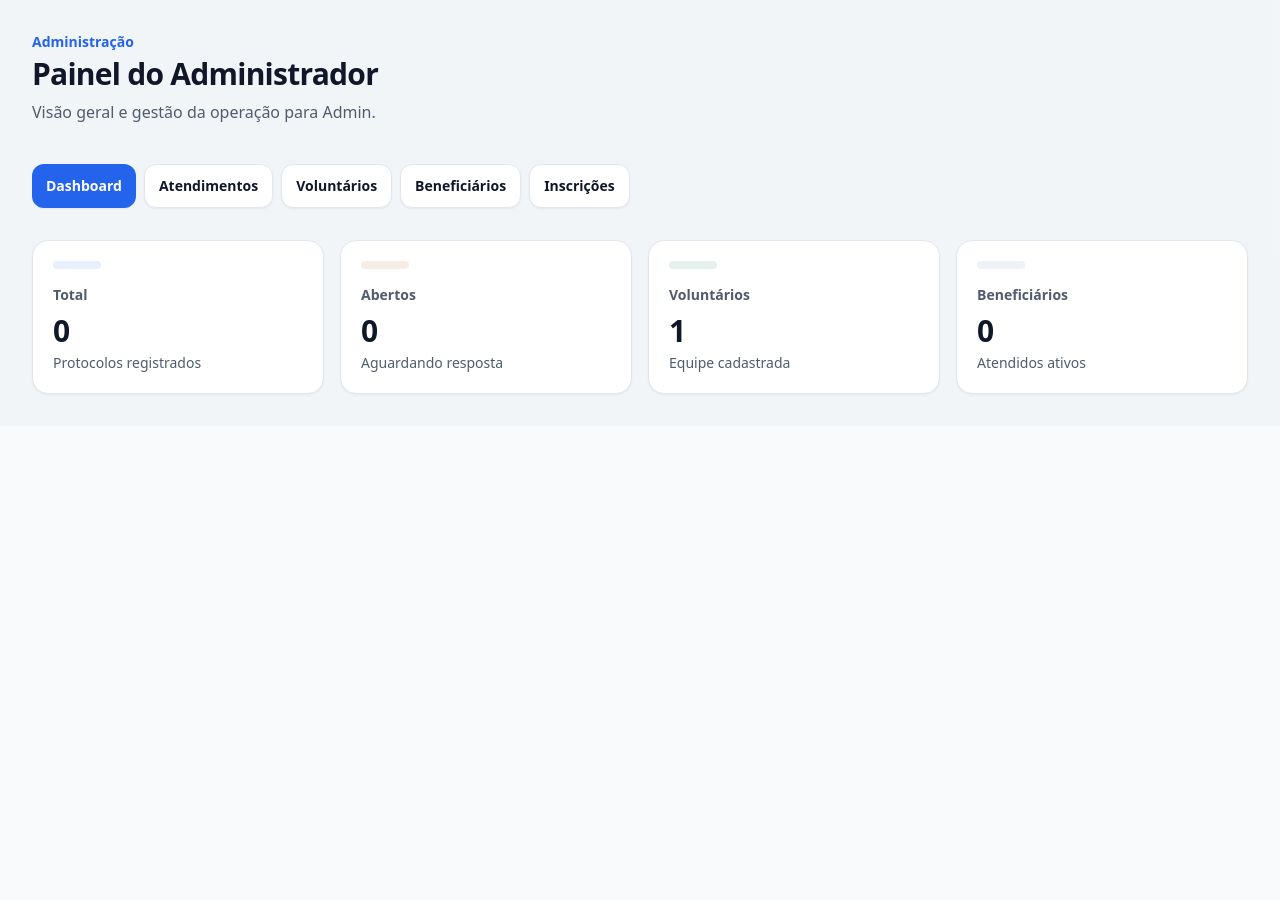
Scenario: Permissão de casos sigilosos no painel administrativo › confirma a alteração de acesso false para true antes de persistir
Click the button "Voluntários".
click(337, 186)  # box [281, 164, 392, 208]
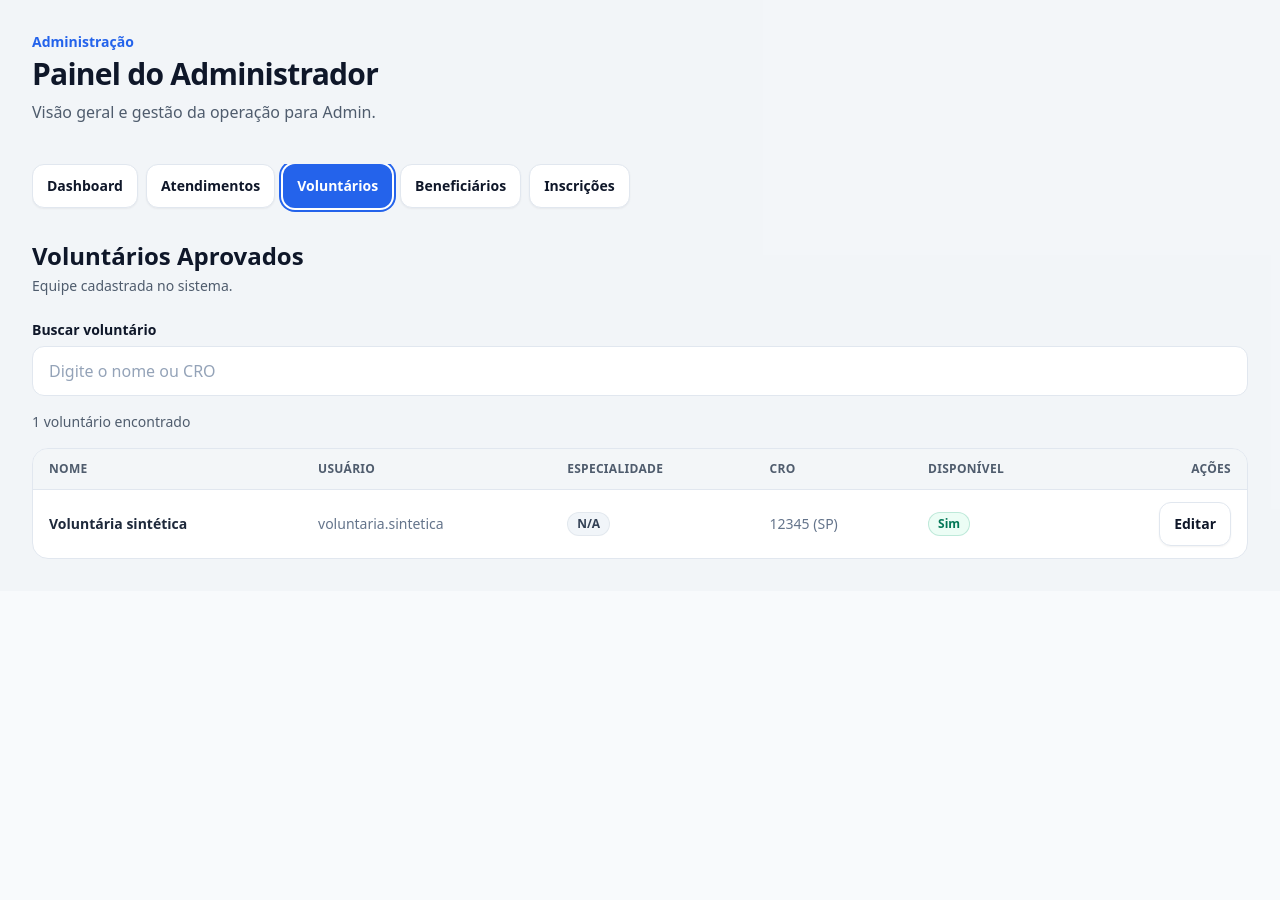
Click the button "Editar".
click(1195, 524)  # box [1159, 502, 1231, 546]
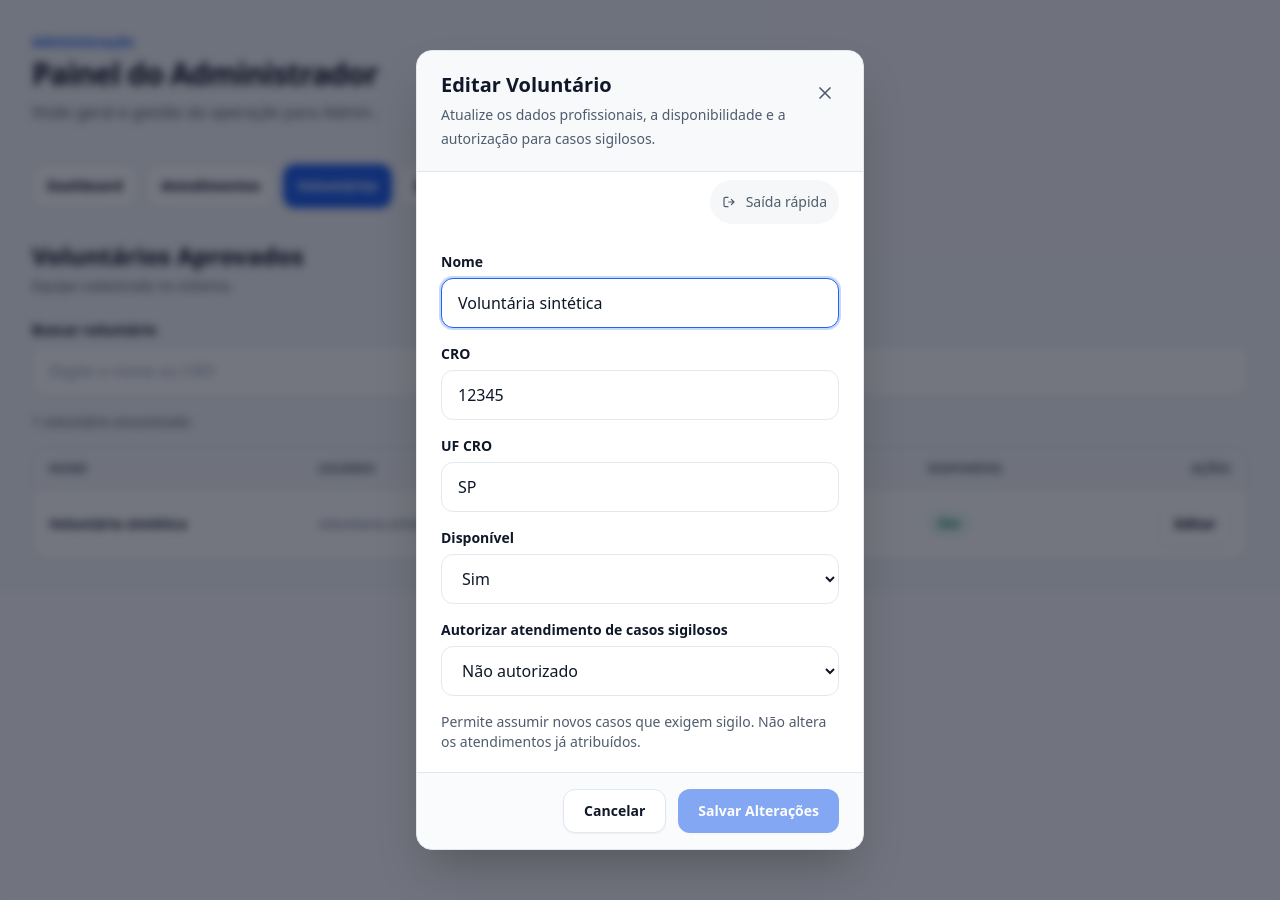
Expected: the button "Salvar Alterações" is disabled, [678, 789, 839, 833]
Select "Autorizado" in the dropdown labelled "Autorizar atendimento de casos sigilosos" at coordinates (640, 671), box [441, 646, 839, 696]
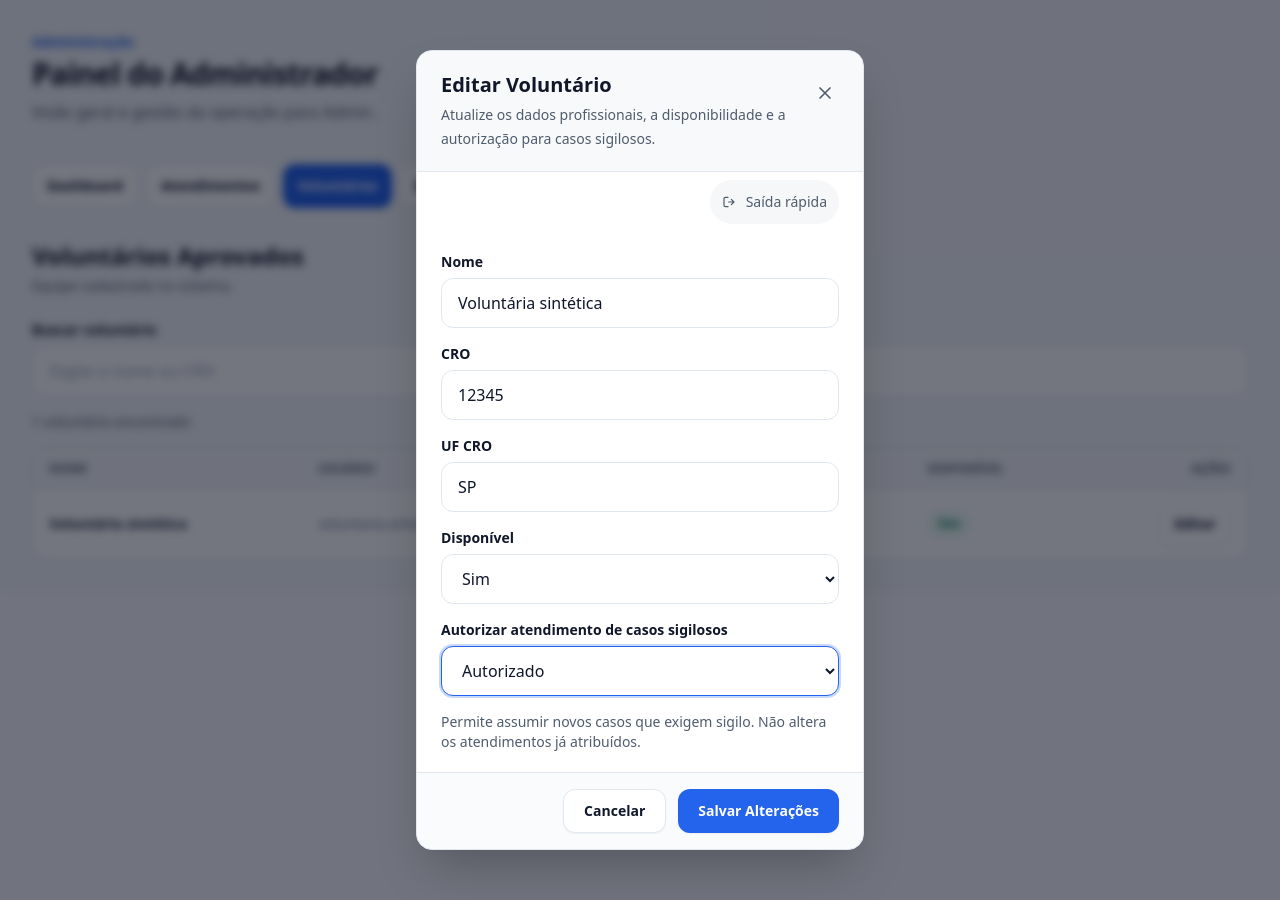
Click the button "Salvar Alterações".
click(759, 811)  # box [678, 789, 839, 833]
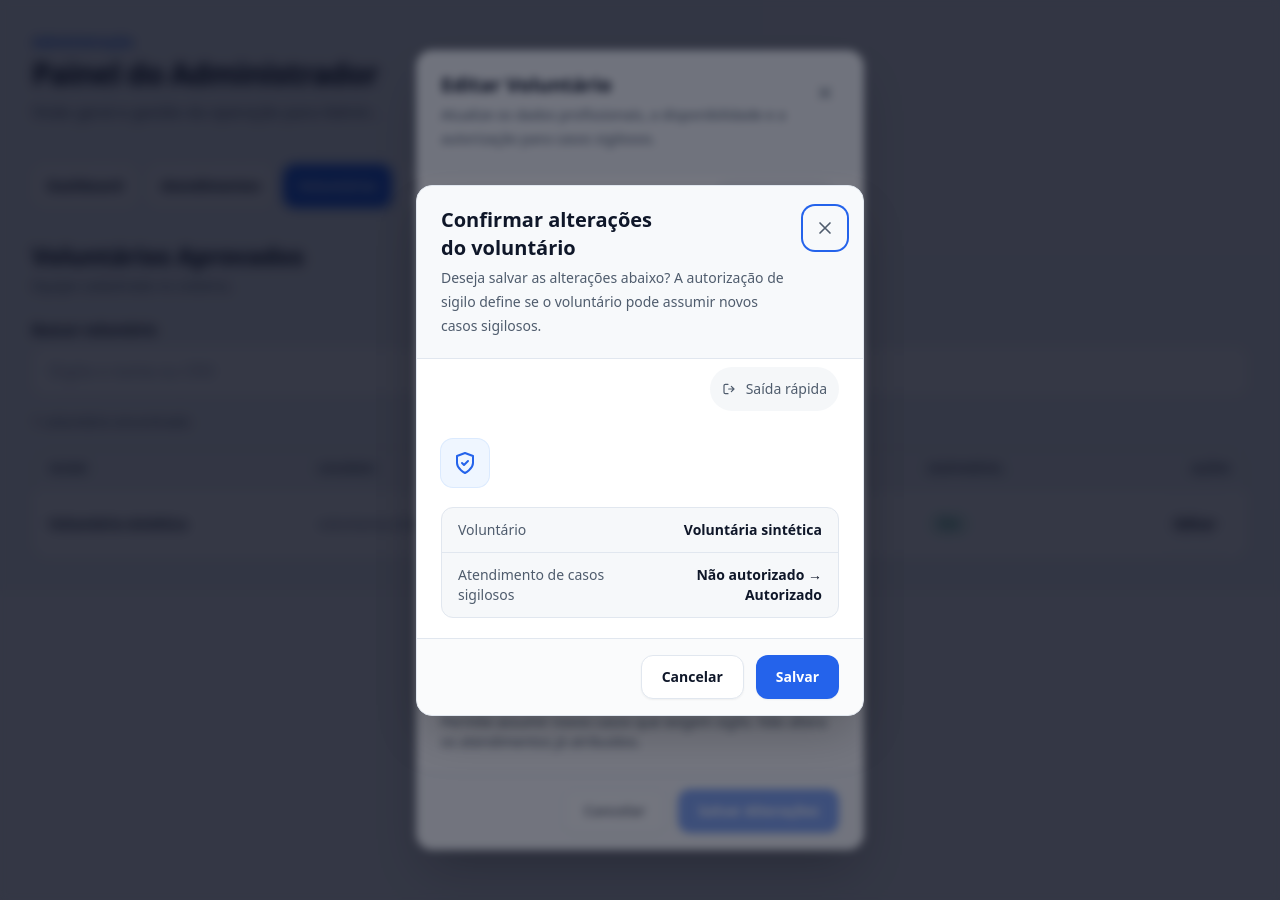
Expected: the text "Não autorizado → Autorizado" is shown, [696, 564, 822, 604]
Expected: the text "Voluntária sintética" is shown, [684, 520, 822, 540]
Click the button "Salvar".
click(797, 676)  # box [756, 654, 839, 698]
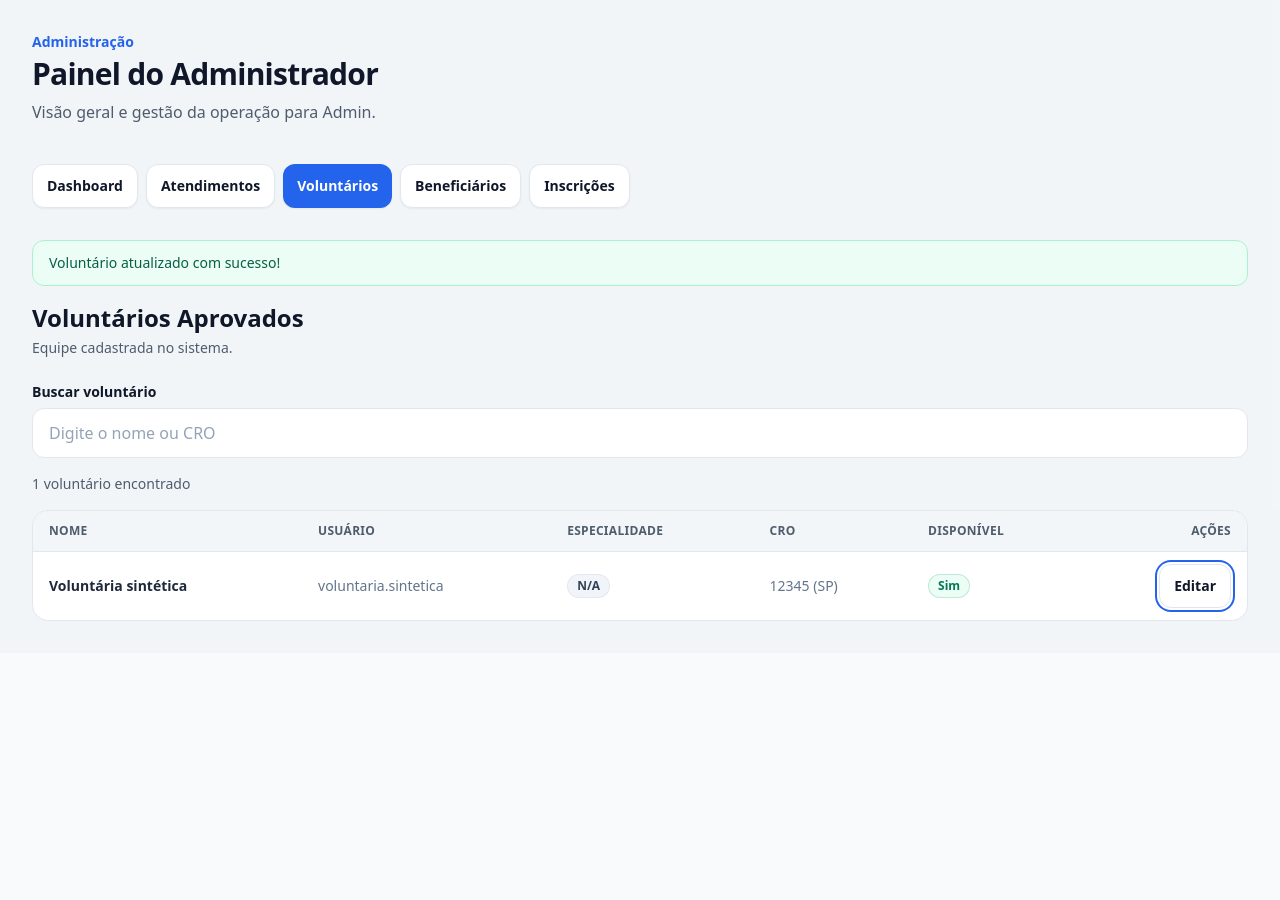
Expected: the text "Voluntário atualizado com sucesso!" is shown, [32, 240, 1248, 286]
